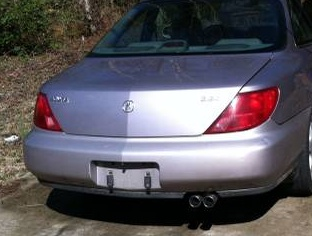acura: (12, 1, 312, 216)
